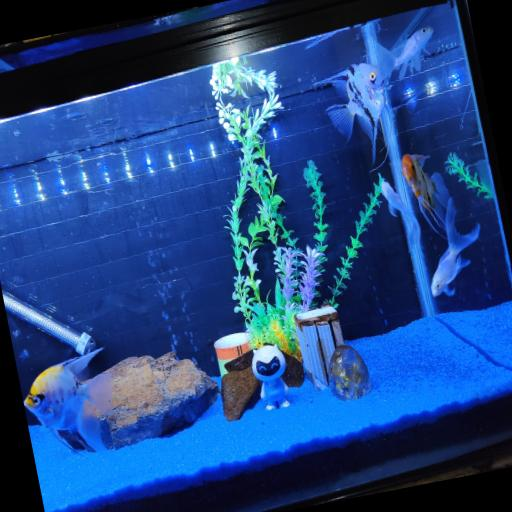Fish: (24, 348, 111, 451), (313, 63, 384, 164), (430, 199, 479, 297), (401, 154, 448, 235), (376, 27, 432, 81), (380, 181, 420, 247)
